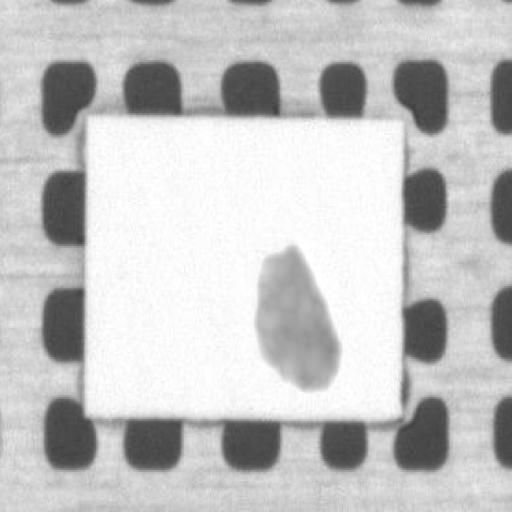DIE_INK: (252, 240, 340, 390)
